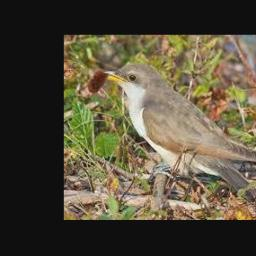Cuckoo: (103, 64, 256, 220)
